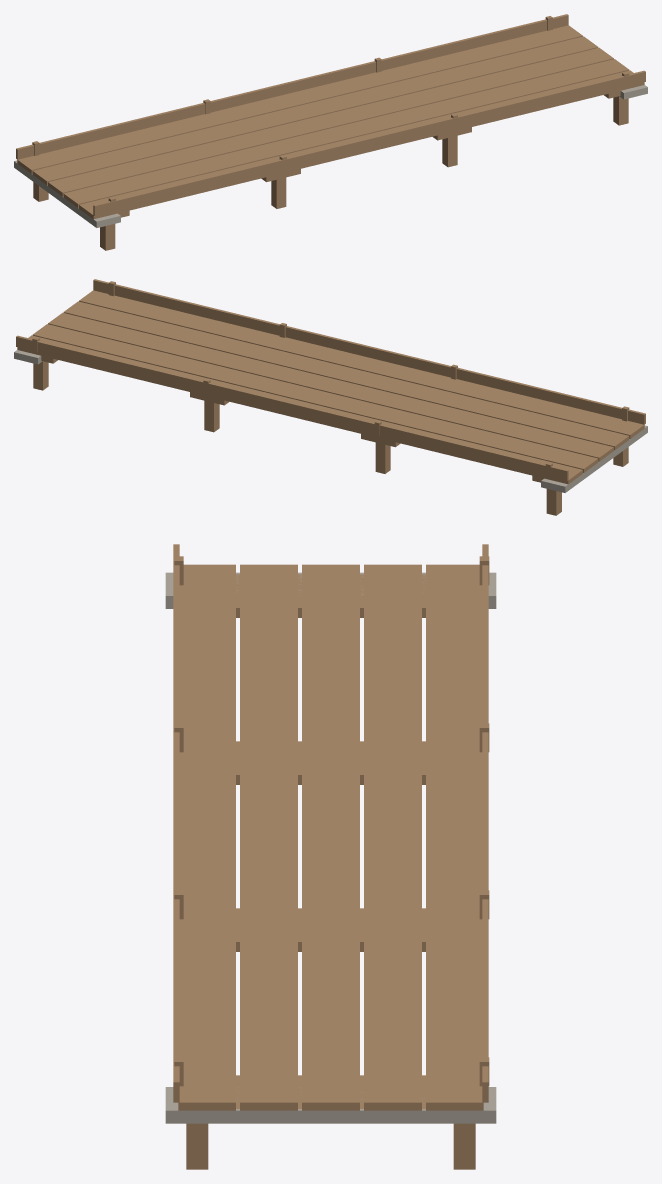
File: source.gltf
3 renders of one model, top to bottom at view 1: azimuth 30°, elevation 25°; view 2: azimuth 150°, elevation 25°; view 3: azimuth 270°, elevation 25°, orthographic. The views are drawn at different scales.
Visible parts, largest first — view 1: bridge-16; view 2: bridge-16; view 3: bridge-16.
Part boxes in pixels (<box>): bridge-16: <box>14,14,647,250</box>; bridge-16: <box>14,279,647,515</box>; bridge-16: <box>165,544,496,1169</box>.
Bounding box in the file's own units: 16 × 1.46 × 4.16.
